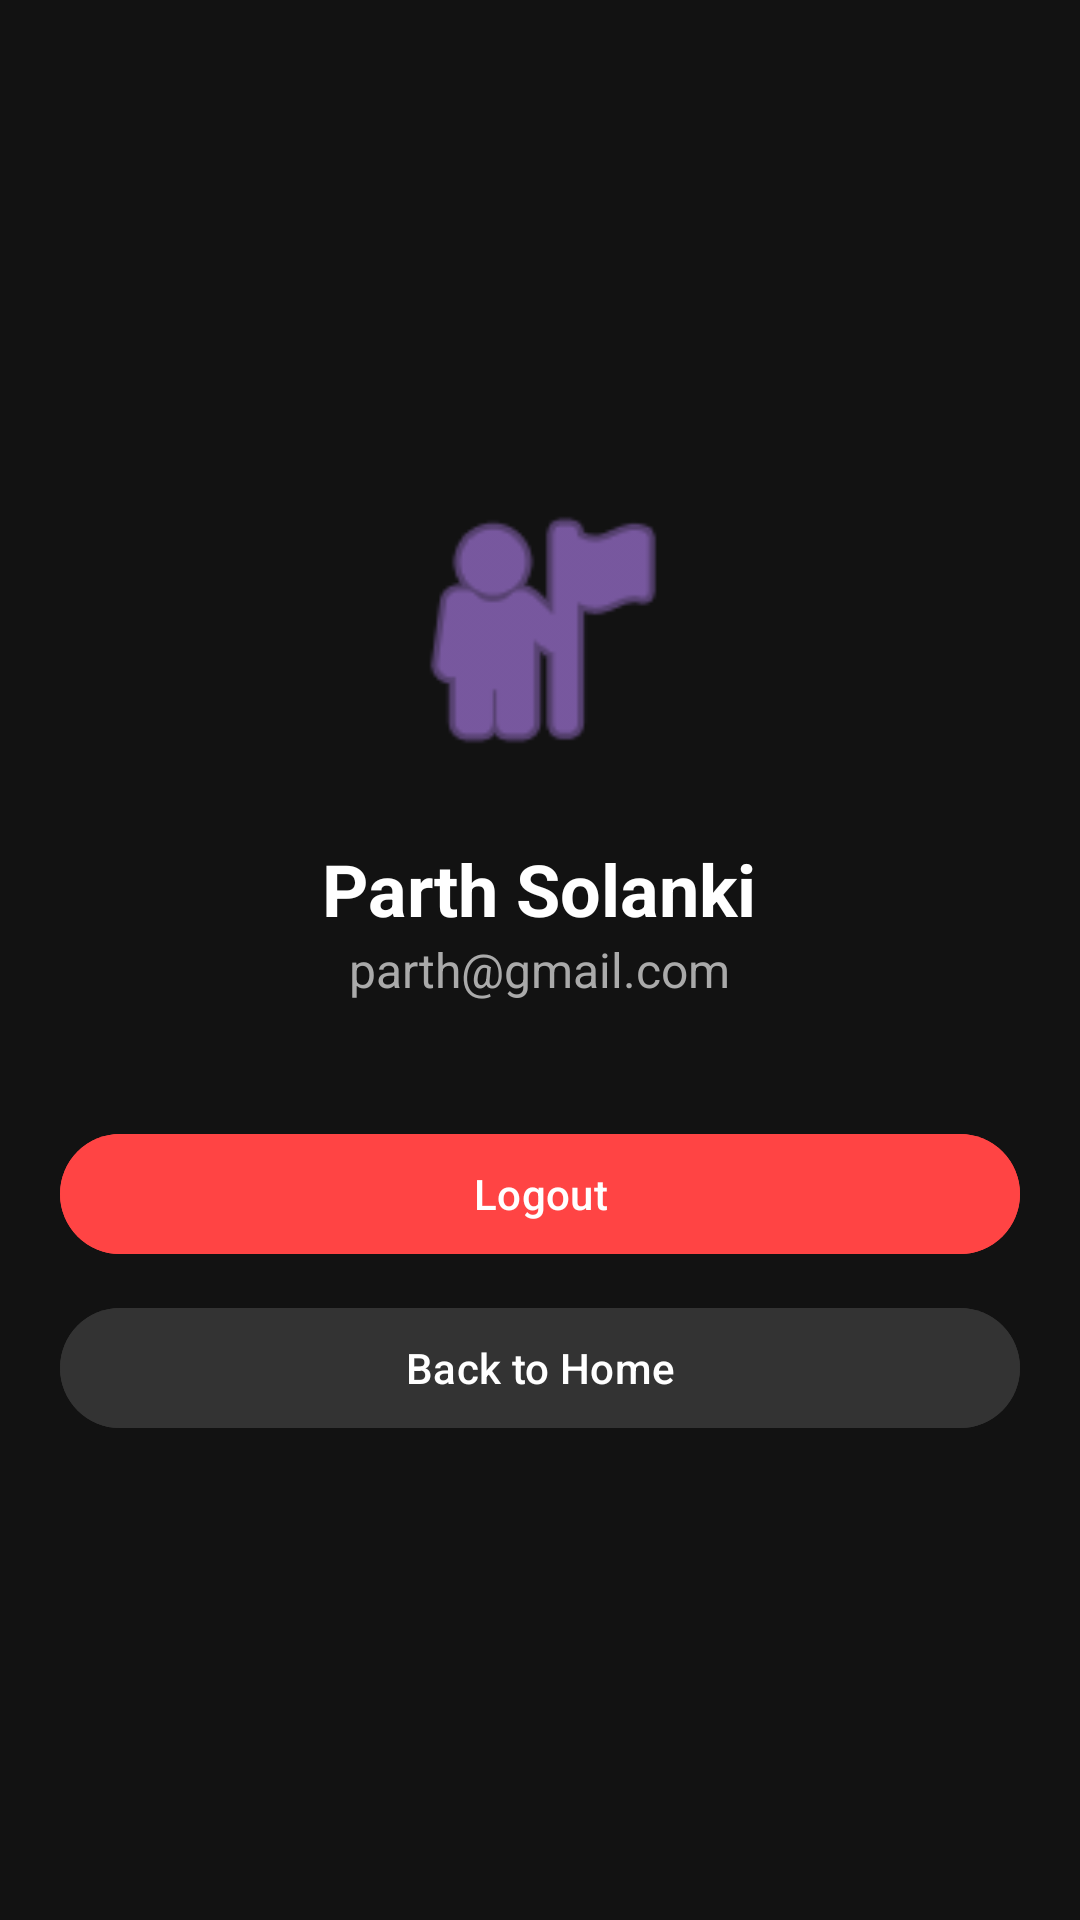

Screen size 1080×1920. Icon name, then its box in pixels as bbox=(x1, y1, x2, y2):
myplaces: bbox=(430, 518, 656, 742)
